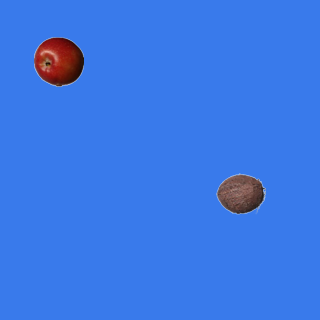Apple Braeburn: (33, 36, 83, 86)
Cocos: (215, 168, 265, 218)
